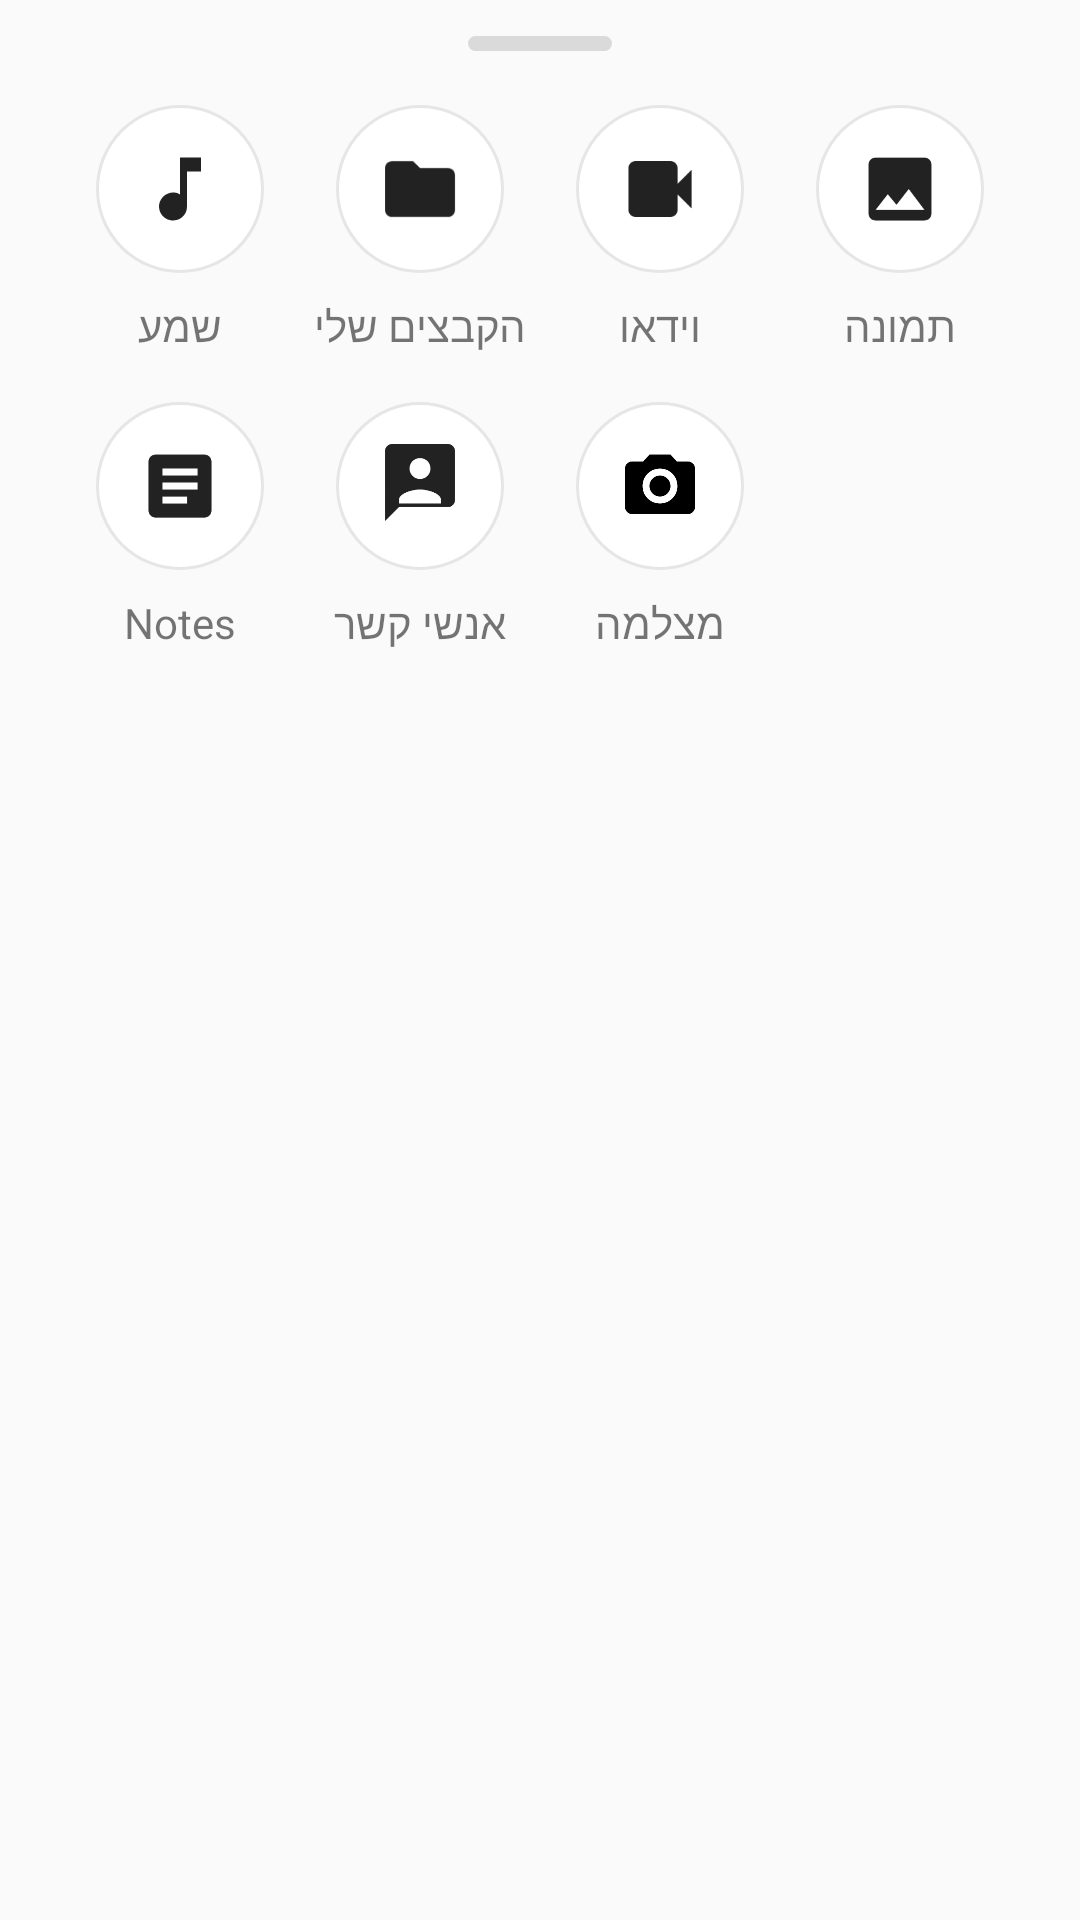

Icons on this 1080 × 1920 Android screen, each with its box as (x1, y1, x2, y2):
camera: (625, 454, 695, 514)
contacts: (385, 444, 455, 521)
folder: (385, 161, 455, 217)
music: (159, 157, 201, 221)
video: (628, 161, 692, 217)
